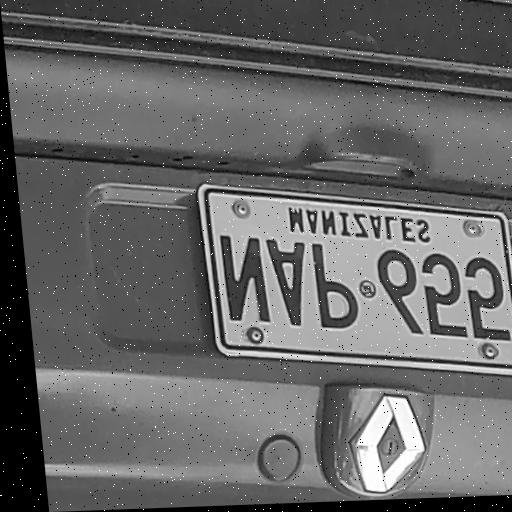placa: (202, 188, 512, 371)
